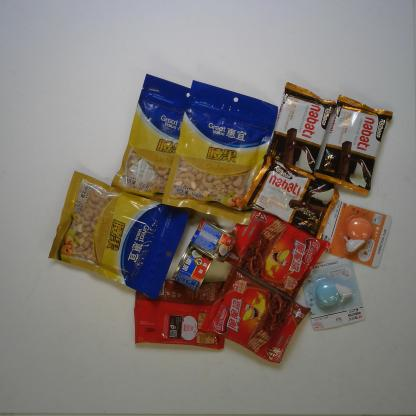Canned Food: (172, 243, 216, 292), (192, 221, 233, 262)
Dessert: (225, 206, 323, 301), (240, 154, 340, 242), (203, 273, 301, 360), (316, 93, 392, 193), (131, 288, 227, 350), (270, 83, 333, 174)
Dried Fruit: (163, 79, 282, 226), (52, 167, 184, 298), (111, 71, 193, 207)
Stationery: (315, 200, 392, 270), (301, 259, 367, 331)
